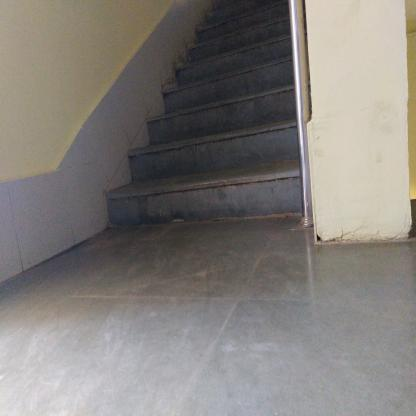stairs: (195, 28, 290, 229)
